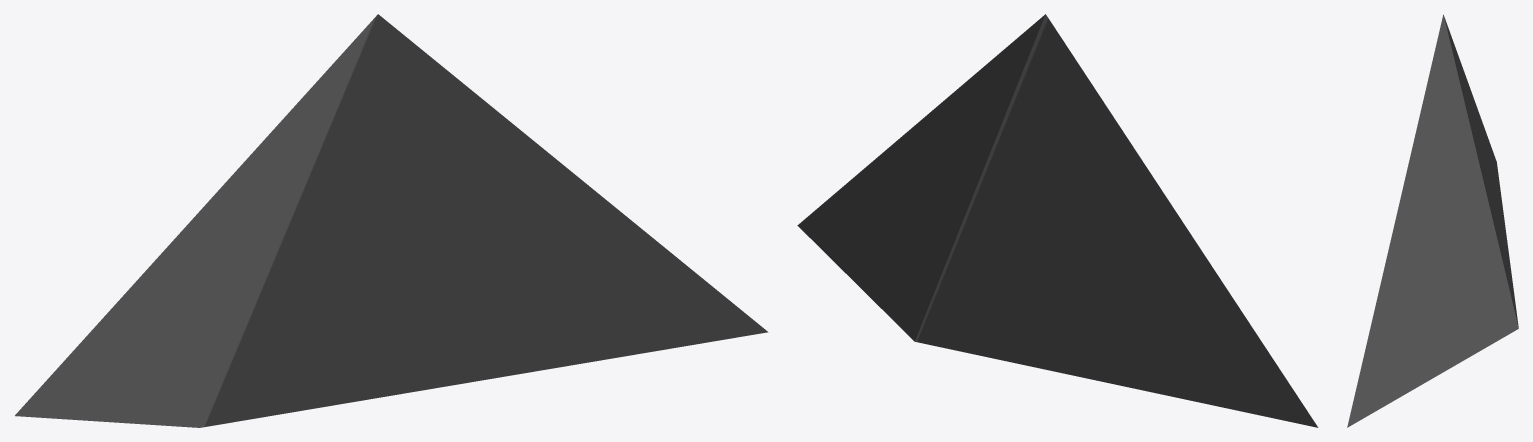
Rendered from mountain2.fbx.
3 views of the same model, side by side, from view 1: azimuth 30°, elevation 25°; view 2: azimuth 150°, elevation 25°; view 3: azimuth 270°, elevation 25° (orthographic). The views are drawn at different scales.
Parts seen in each view (by area): view 1: pPyramid1; view 2: pPyramid1; view 3: pPyramid1.
Boxes of the visible parts, x1=… form: pPyramid1: x1=15, y1=14, x2=768, y2=427; pPyramid1: x1=797, y1=14, x2=1318, y2=427; pPyramid1: x1=1347, y1=14, x2=1518, y2=427.
Bounding box in the file's own units: 0.0935 × 0.048 × 0.0262.
1 material, 1 textured.
